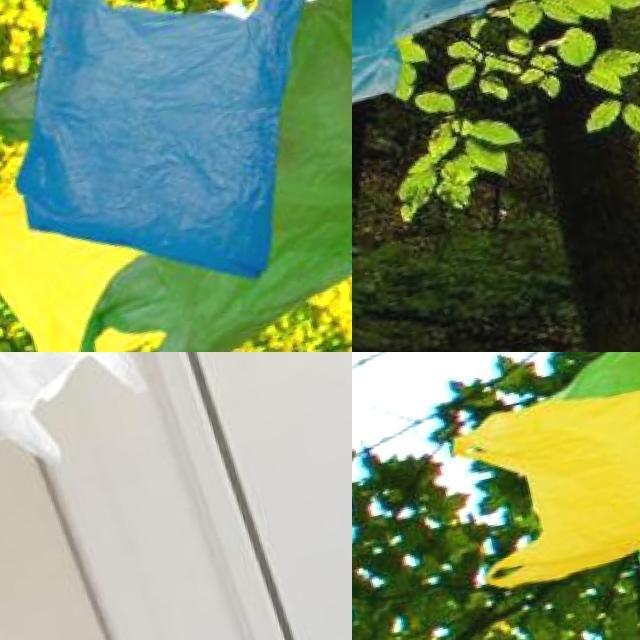waste: (0, 0, 352, 322), (46, 0, 352, 352), (444, 362, 640, 606), (352, 0, 558, 131), (0, 352, 163, 476), (560, 352, 640, 586)
